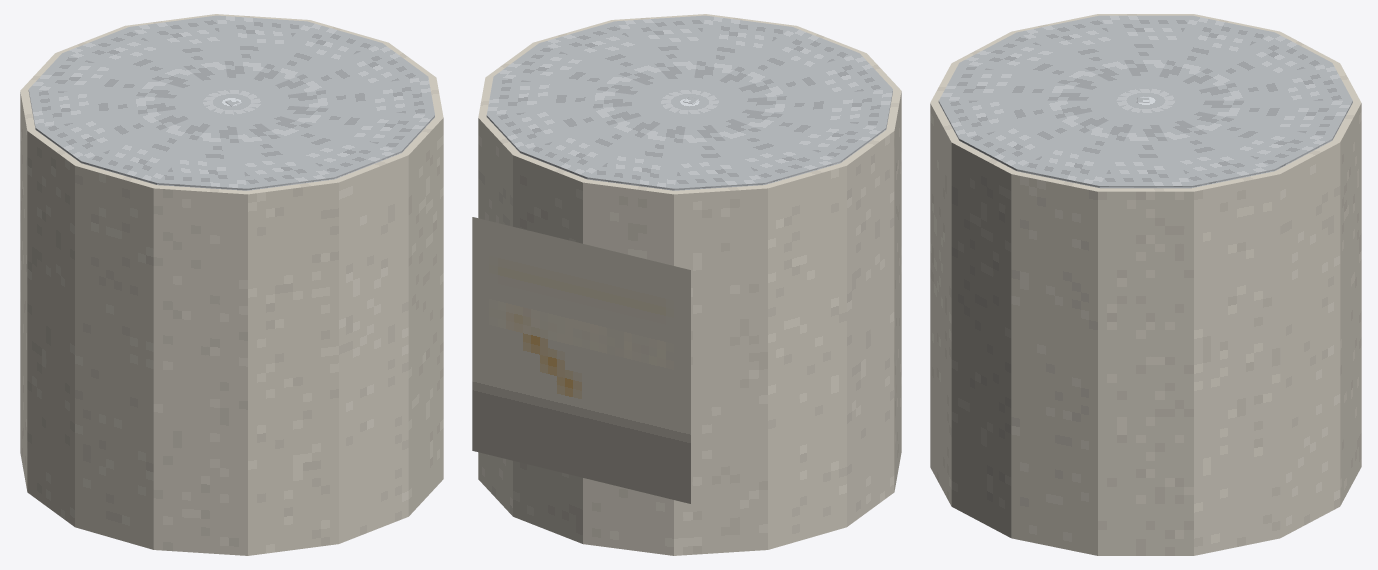
Rendered from milk_evap.glb.
3 views of the same model, side by side, from view 1: azimuth 30°, elevation 25°; view 2: azimuth 150°, elevation 25°; view 3: azimuth 270°, elevation 25° (orthographic).
Visible parts, largest first — view 1: block_body, block_top; view 2: block_body, block_top, block_contents label; view 3: block_body, block_top.
Boxes of the visible parts, box(x1,y1,x2,y2) form: block_body: box(20, 14, 443, 555); block_top: box(28, 15, 434, 190); block_body: box(478, 14, 901, 555); block_top: box(486, 15, 892, 190); block_contents label: box(472, 217, 690, 503); block_body: box(930, 14, 1361, 555); block_top: box(938, 15, 1352, 188).
Bounding box in the file's own units: 0.147 × 0.1425 × 0.1516.
Materials: 2 (2 with a texture image).
